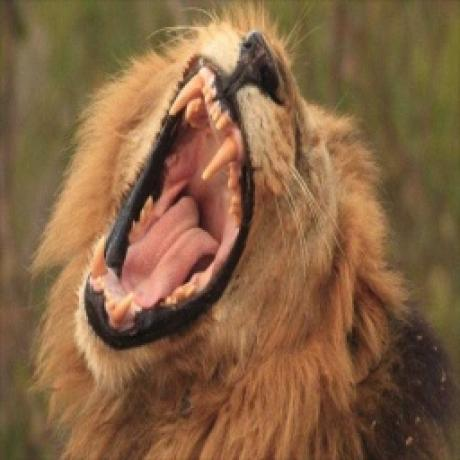Lion: (34, 3, 456, 460)
